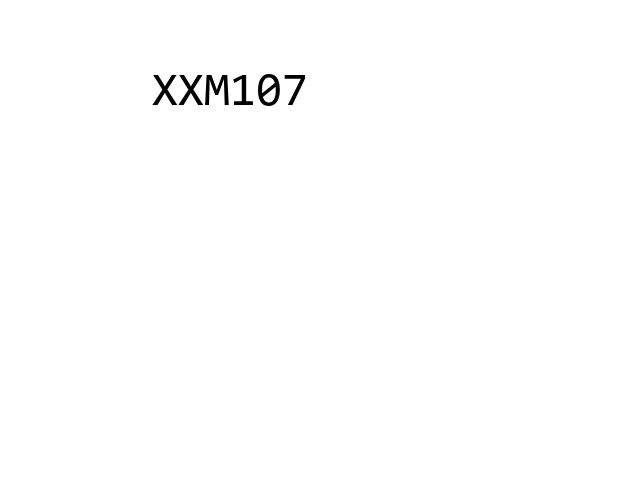OCR_AREA: (148, 70, 312, 110)
